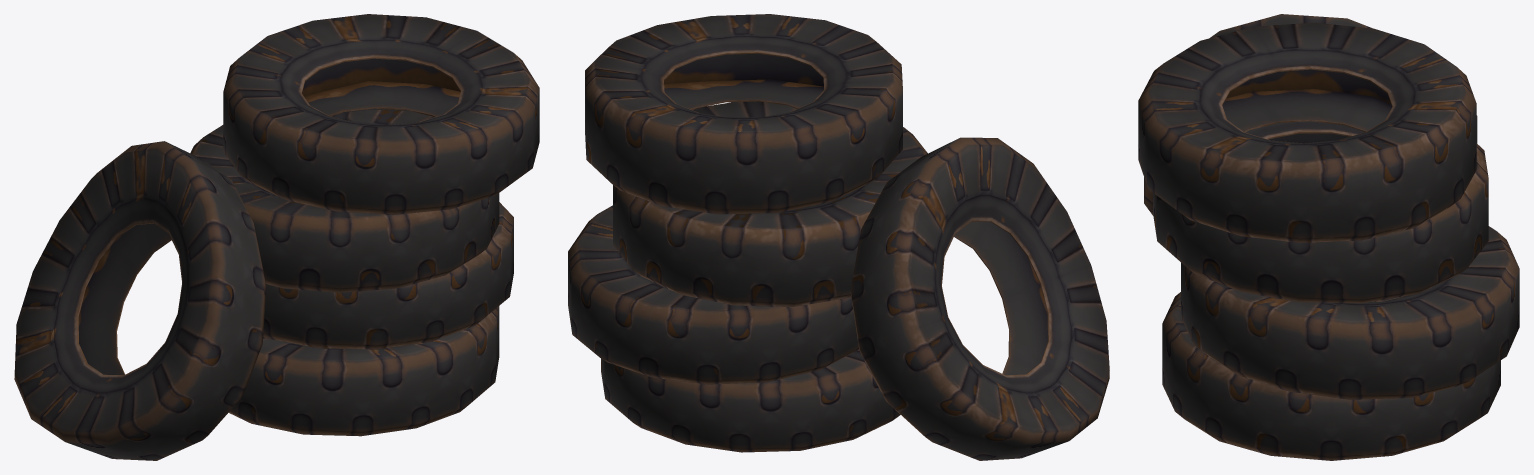
File: Tires01_3.FBX
3 renders of one model, left to right at view 1: azimuth 30°, elevation 25°; view 2: azimuth 150°, elevation 25°; view 3: azimuth 270°, elevation 25°, orthographic. The views are drawn at different scales.
Visible parts, largest first — view 1: Tires01_3; view 2: Tires01_3; view 3: Tires01_3.
Part boxes in pixels (bbox=[...]): Tires01_3: bbox=[14, 14, 539, 460]; Tires01_3: bbox=[568, 14, 1109, 460]; Tires01_3: bbox=[1138, 14, 1519, 460].
Size of what is drawn, in the model's own units: 1.66 by 1.01 by 1.08.
